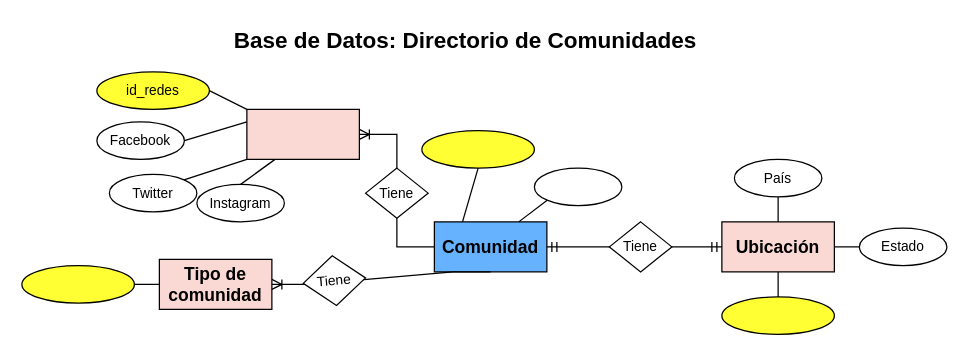
This 969x356 diagram has some shape labels left out. The shapes that lost their labels are listed below. From the top down, each one's centre as x and y in pixels, then its label:
At pixel 302 133: "Redes Sociales".
At pixel 477 148: "id_comunidad".
At pixel 577 186: "Nombre".
At pixel 77 283: "id_tipo".
At pixel 777 315: "id_ubicación".
